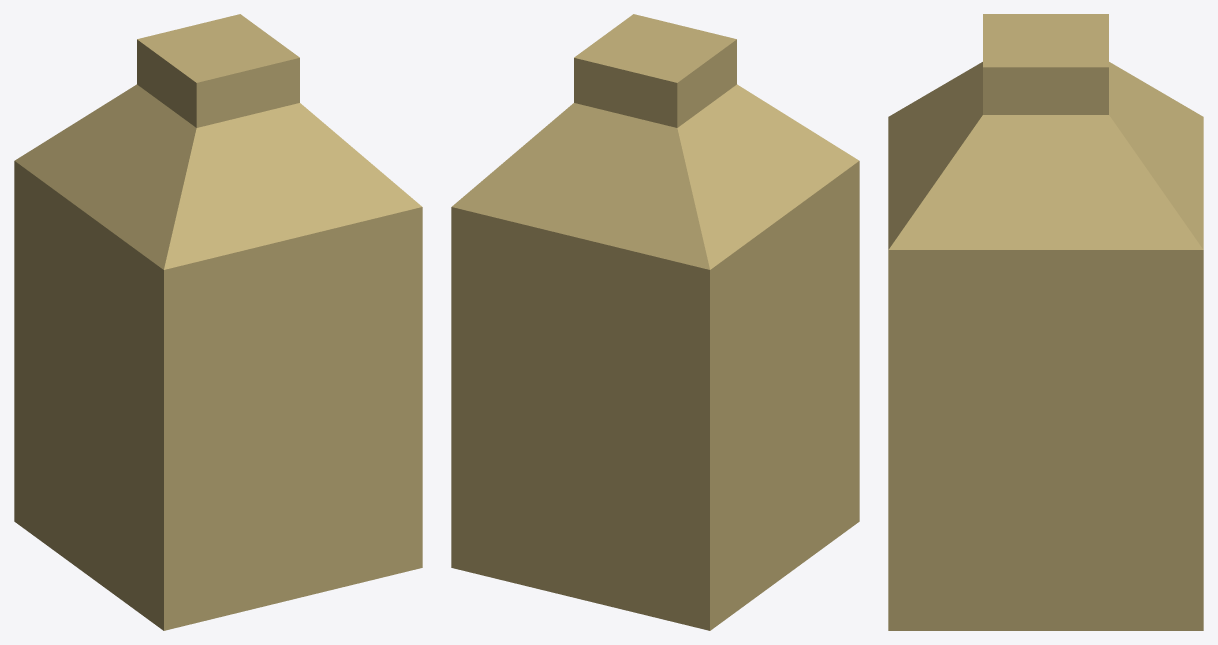
File: New_Lander_Part.fbx
3 views of the same model, side by side, from view 1: azimuth 30°, elevation 25°; view 2: azimuth 150°, elevation 25°; view 3: azimuth 270°, elevation 25° (orthographic). The views are drawn at different scales.
Visible parts, largest first — view 1: Plane; view 2: Plane; view 3: Plane.
Part boxes in pixels (x1,y1,x2,y2): Plane: (14, 14, 422, 630); Plane: (451, 14, 859, 630); Plane: (888, 14, 1203, 630).
Bounding box in the file's own units: 0.6 × 1.1 × 0.6.
